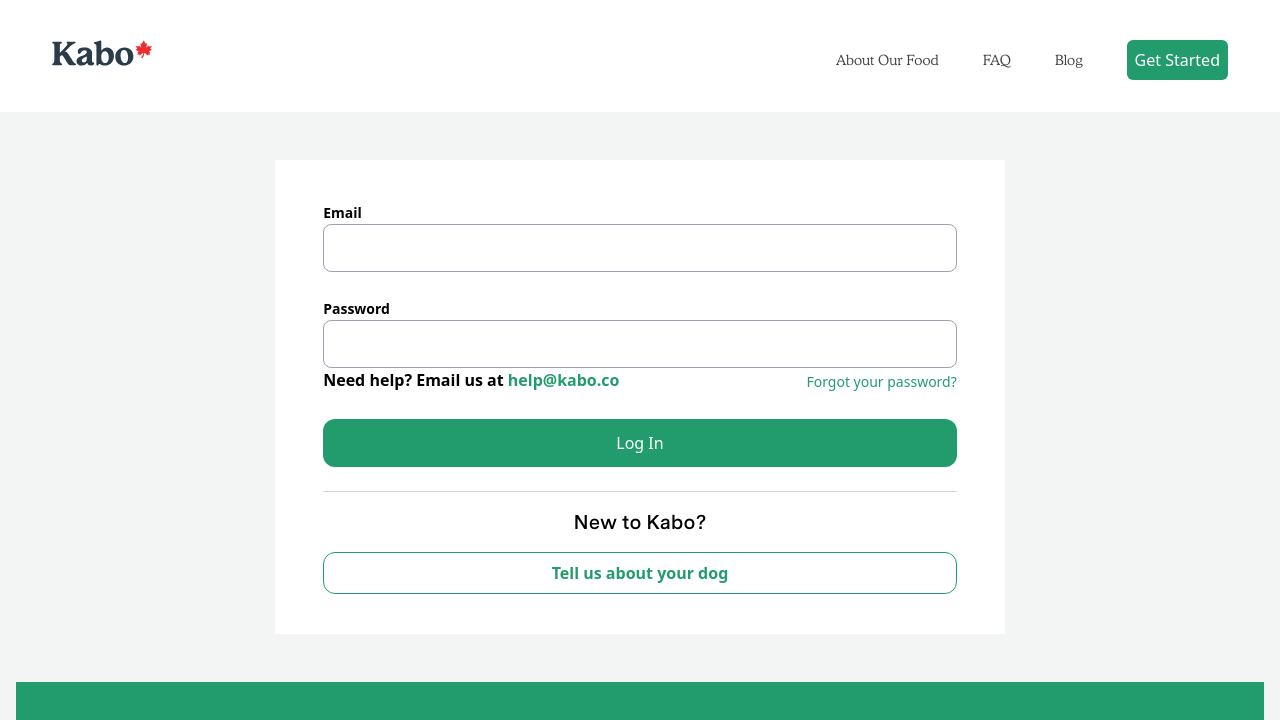
Test: Login Page › Test for login component › checks that incorrect login errors out
Type "sss@email.com" into the field with test id "login-email".
click(640, 248); type("sss@email.com")  # box [323,224,957,272]
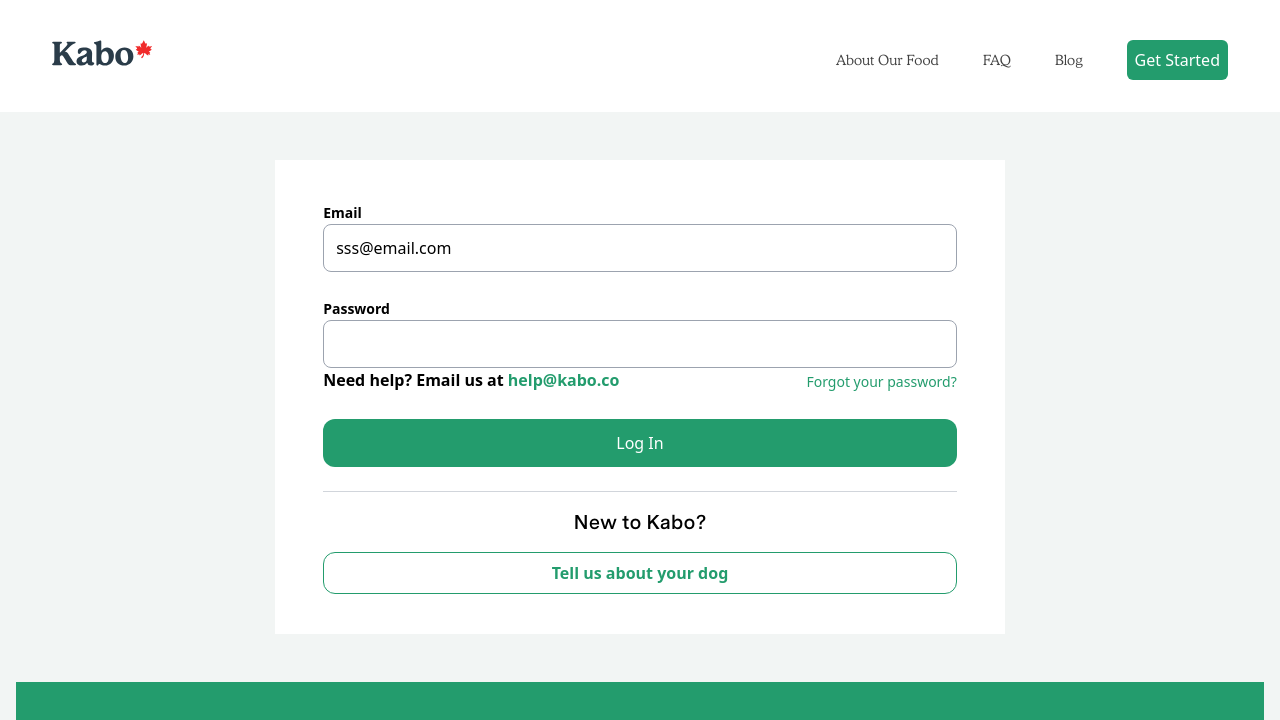
Type "sssss" into the password field with test id "login-password".
click(640, 344); type("sssss")  # box [323,320,957,368]
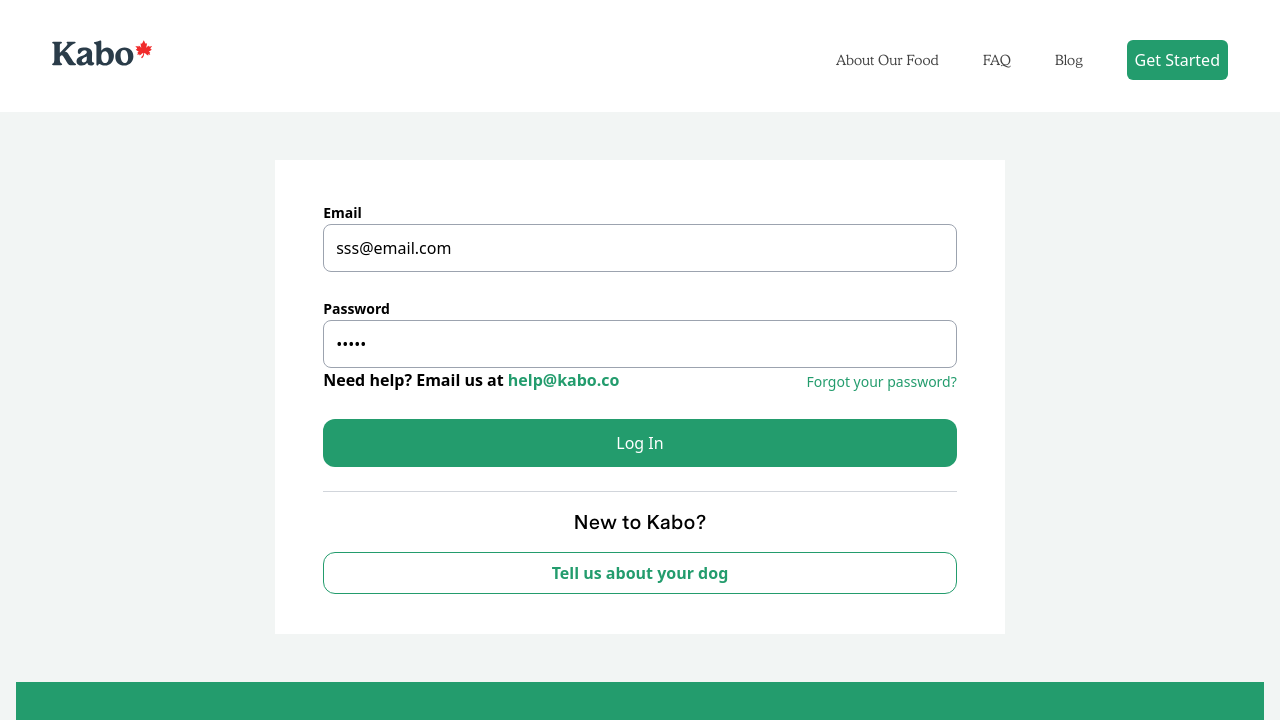
Click the button with test id "login-submit".
click(640, 443)  # box [323,419,957,467]
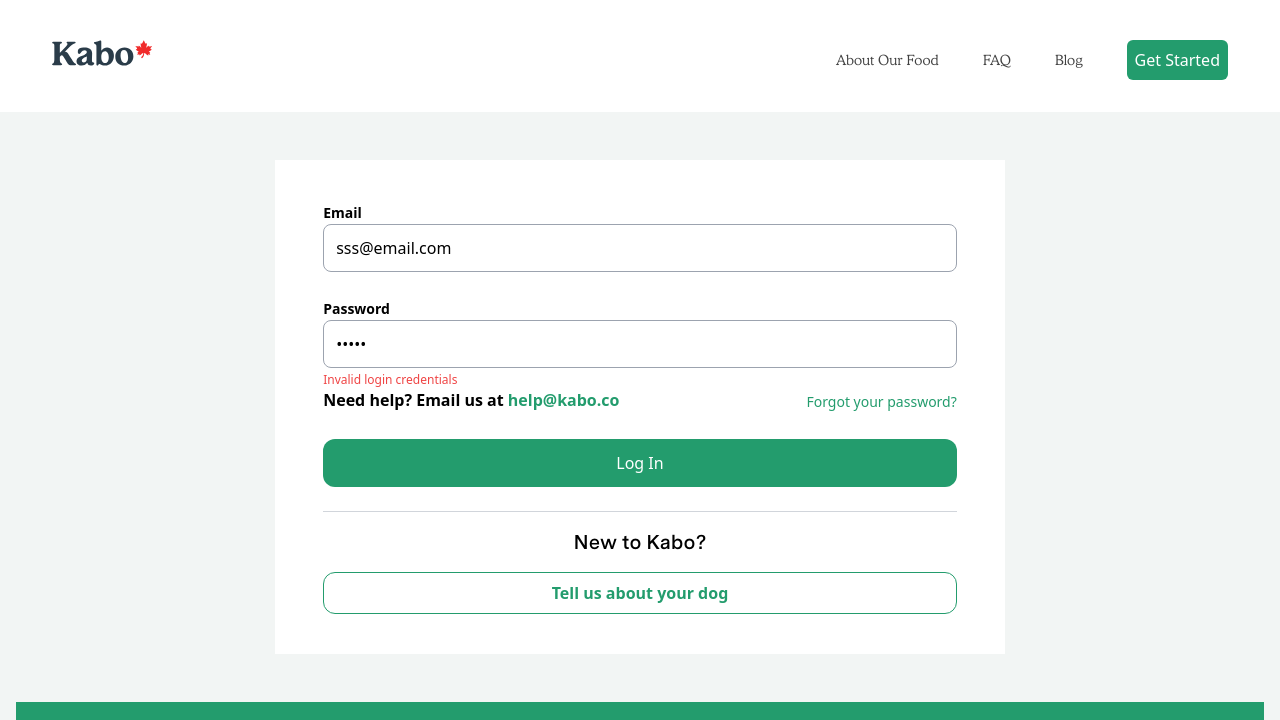
Now the text "Invalid login credentials" is shown, box [323,371,457,388]
